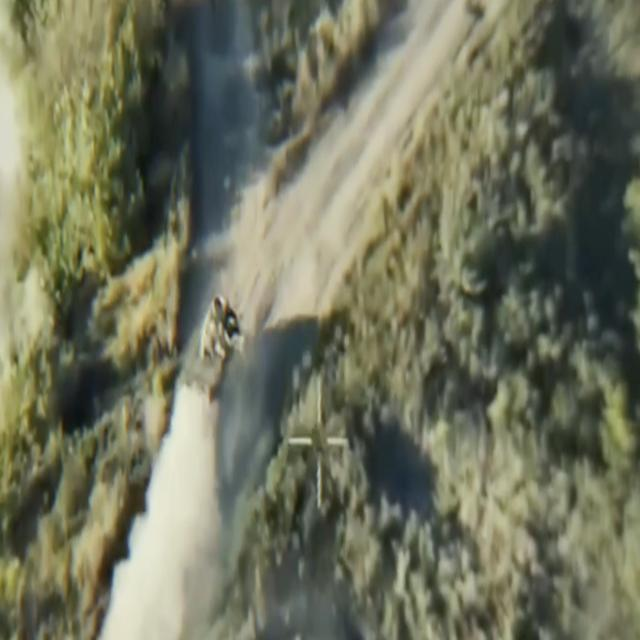vehicle: (182, 290, 239, 404)
